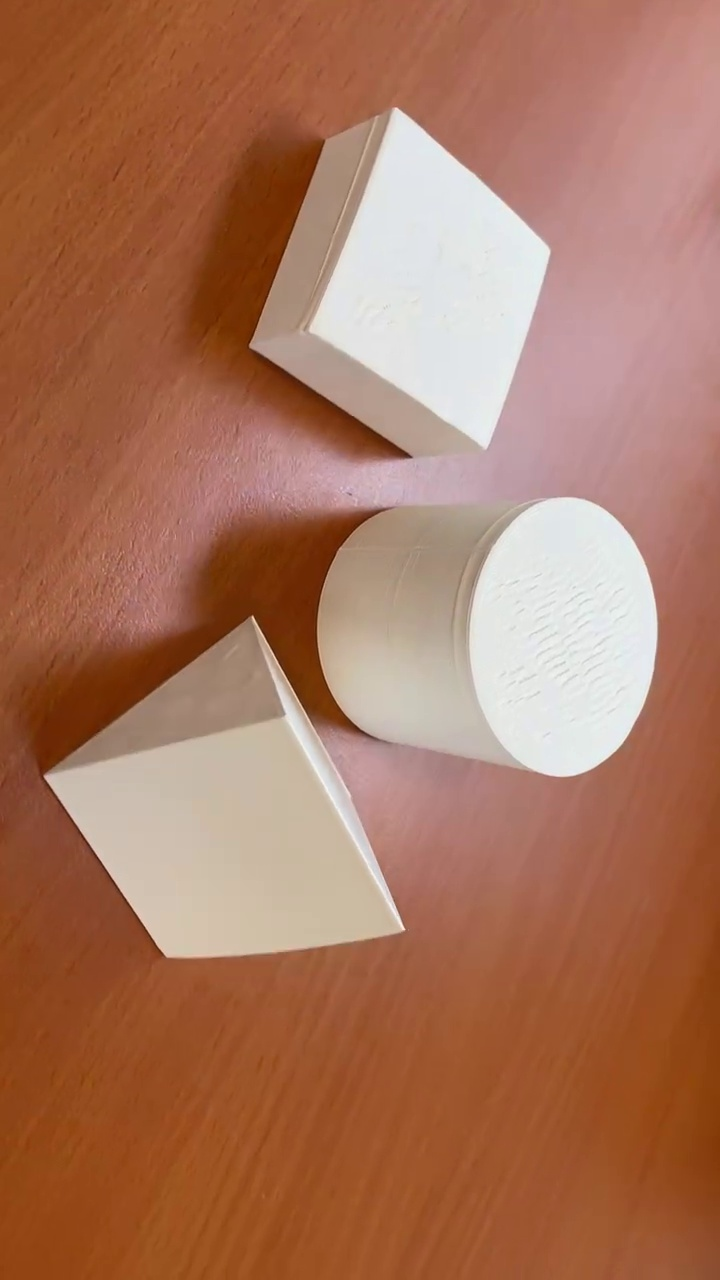Cube_short: (244, 107, 552, 460)
Cylinder: (313, 493, 661, 782)
Triangle: (41, 612, 408, 964)
